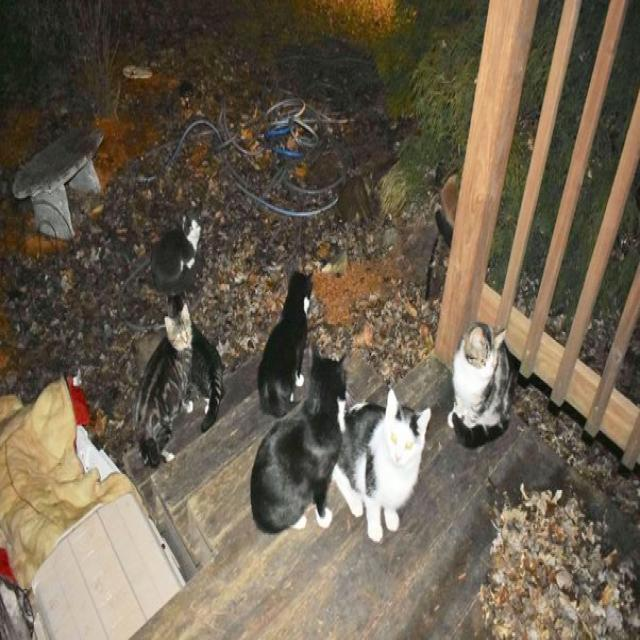cat: (251, 351, 346, 532), (332, 388, 431, 542), (136, 306, 191, 466), (448, 323, 511, 448), (258, 272, 311, 416), (151, 216, 201, 296), (190, 325, 224, 431)
